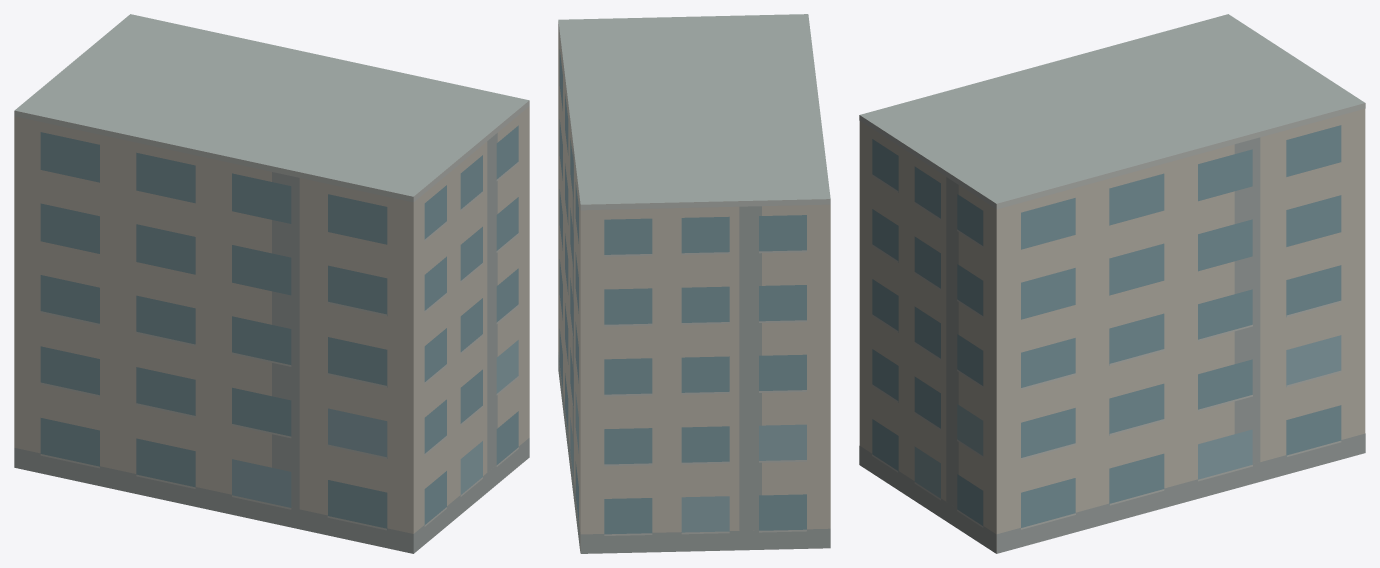
File: survey-upis-32683184.glb
The picture shows the model from 3 angles, left to right: view 1: azimuth 30°, elevation 25°; view 2: azimuth 150°, elevation 25°; view 3: azimuth 270°, elevation 25°; orthographic projection. The views are drawn at different scales.
Visible parts, largest first — view 1: survey-upis-32683184.tmp; view 2: survey-upis-32683184.tmp; view 3: survey-upis-32683184.tmp.
Boxes of the visible parts, bbox=[...] form: survey-upis-32683184.tmp: bbox=[14, 14, 529, 553]; survey-upis-32683184.tmp: bbox=[558, 14, 830, 553]; survey-upis-32683184.tmp: bbox=[859, 14, 1365, 553].
Size of the model in its own units: 17.74 by 15.25 by 19.98.
